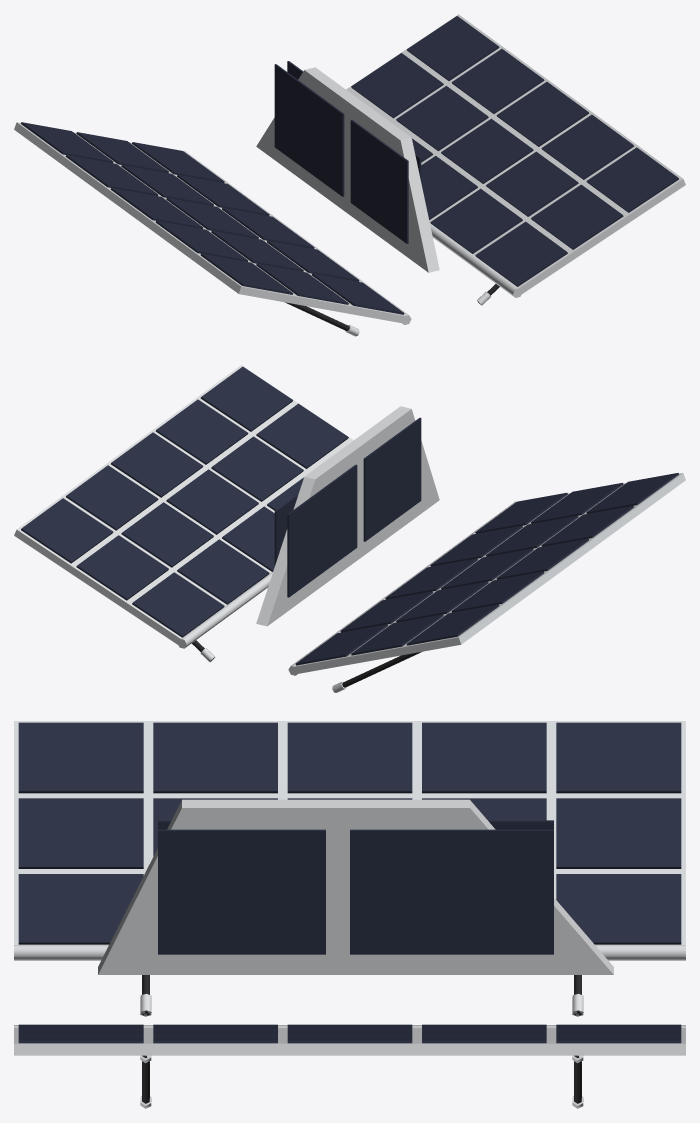
File: e1_array.obj
3 views of the same model, one above another, from view 1: azimuth 30°, elevation 25°; view 2: azimuth 150°, elevation 25°; view 3: azimuth 270°, elevation 25° (orthographic). The views are drawn at different scales.
Visible parts, largest first — view 1: e1_array; view 2: e1_array; view 3: e1_array.
Part boxes in pixels (<box>): e1_array: <box>14,14,685,336</box>; e1_array: <box>14,365,685,692</box>; e1_array: <box>14,721,685,1108</box>.
Bounding box in the file's own units: 3.22 × 1.19 × 2.8.
